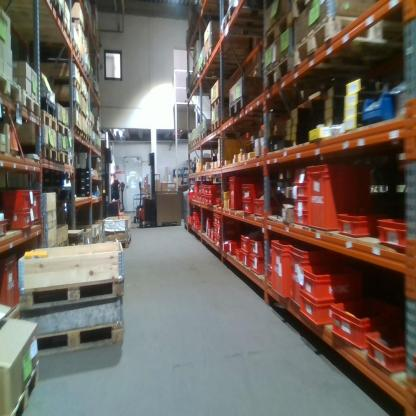pallet: (295, 12, 406, 75), (19, 274, 125, 310), (38, 320, 123, 355), (214, 9, 266, 35), (265, 50, 292, 95), (267, 8, 291, 50), (204, 46, 245, 67), (229, 95, 258, 123), (292, 0, 328, 22), (18, 143, 58, 162), (37, 1, 64, 24), (1, 72, 21, 103), (22, 86, 40, 120), (57, 13, 73, 42), (42, 109, 58, 134), (49, 80, 82, 91), (210, 96, 231, 113), (66, 38, 81, 61), (56, 147, 72, 168), (57, 101, 81, 114), (211, 118, 229, 133), (59, 121, 71, 140), (197, 61, 210, 77), (120, 235, 132, 248), (80, 130, 87, 145), (202, 129, 210, 141), (90, 235, 100, 243), (195, 134, 201, 146), (75, 128, 82, 137), (80, 114, 86, 123), (192, 137, 195, 151)
pallet_truck: (102, 147, 130, 228), (137, 149, 159, 233)
small_load_carrier: (307, 163, 370, 236), (290, 242, 343, 304), (331, 295, 389, 349), (295, 262, 363, 303), (365, 329, 409, 371), (271, 239, 299, 298), (0, 250, 22, 317), (297, 290, 338, 323), (337, 209, 380, 240), (374, 208, 407, 246), (229, 173, 254, 214), (1, 186, 33, 213), (9, 207, 34, 231), (29, 188, 41, 228), (249, 239, 270, 258), (251, 195, 272, 214), (294, 165, 312, 184), (241, 182, 262, 198), (241, 196, 254, 220), (250, 258, 269, 273), (294, 212, 309, 230), (293, 198, 310, 212), (240, 234, 254, 251), (228, 239, 240, 258), (294, 184, 310, 198), (1, 217, 8, 239), (267, 262, 273, 286), (243, 251, 252, 267), (207, 185, 219, 196), (238, 245, 244, 262), (217, 225, 222, 238), (218, 212, 222, 227), (216, 197, 221, 208), (218, 198, 222, 209), (218, 236, 222, 247), (208, 199, 213, 207), (214, 233, 218, 243), (214, 213, 217, 223), (214, 224, 217, 233)
